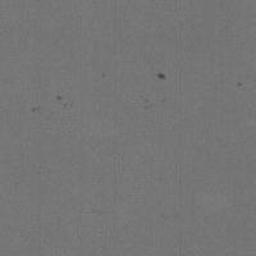Inclusion: (143, 98, 152, 109), (157, 73, 166, 79)
